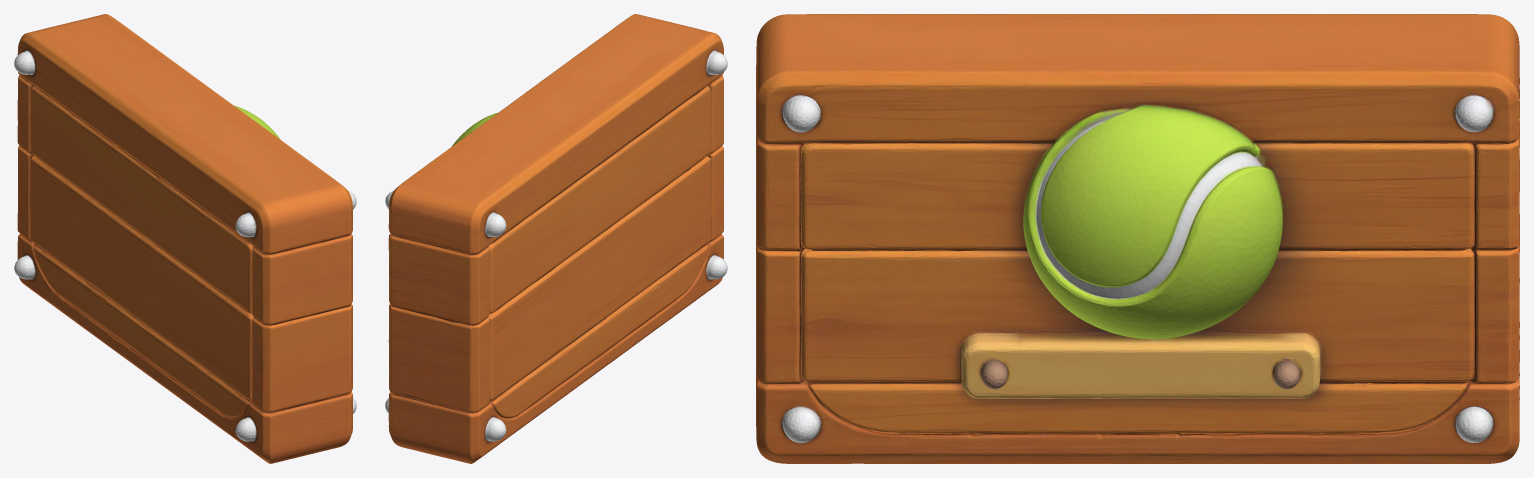
File: sign_12.glb
The picture shows the model from 3 angles, left to right: view 1: azimuth 30°, elevation 25°; view 2: azimuth 150°, elevation 25°; view 3: azimuth 270°, elevation 25°; orthographic projection. The views are drawn at different scales.
Visible parts, largest first — view 1: tripo_node_2ee752f9-6404-449f-85c7-e501f5f3f907; view 2: tripo_node_2ee752f9-6404-449f-85c7-e501f5f3f907; view 3: tripo_node_2ee752f9-6404-449f-85c7-e501f5f3f907.
Part boxes in pixels (x1,y1,x2,y2): tripo_node_2ee752f9-6404-449f-85c7-e501f5f3f907: (14,14,356,463); tripo_node_2ee752f9-6404-449f-85c7-e501f5f3f907: (385,14,727,463); tripo_node_2ee752f9-6404-449f-85c7-e501f5f3f907: (756,14,1519,463).
Size of the model in its own units: 0.3728 by 0.5748 by 1.
Materials: 1 (1 with a texture image).
